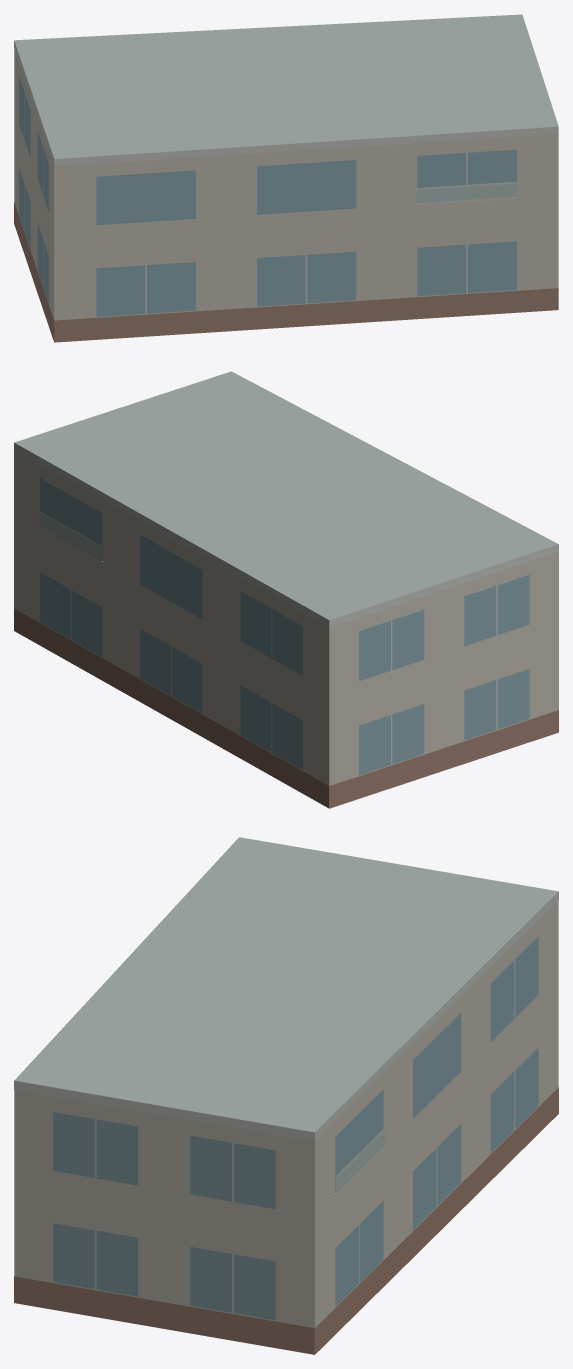
Rendered from survey-upis-32714702.glb.
The picture shows the model from 3 angles, top to bottom: view 1: azimuth 30°, elevation 25°; view 2: azimuth 150°, elevation 25°; view 3: azimuth 270°, elevation 25°; orthographic projection. The views are drawn at different scales.
Parts seen in each view (by area): view 1: survey-upis-32714702.tmp; view 2: survey-upis-32714702.tmp; view 3: survey-upis-32714702.tmp.
Boxes of the visible parts, box(x1,y1,x2,y2) form: survey-upis-32714702.tmp: box(14, 14, 558, 342); survey-upis-32714702.tmp: box(14, 371, 558, 808); survey-upis-32714702.tmp: box(14, 837, 558, 1354).
Size of the model in its own units: 17.39 by 6.1 by 13.55.
